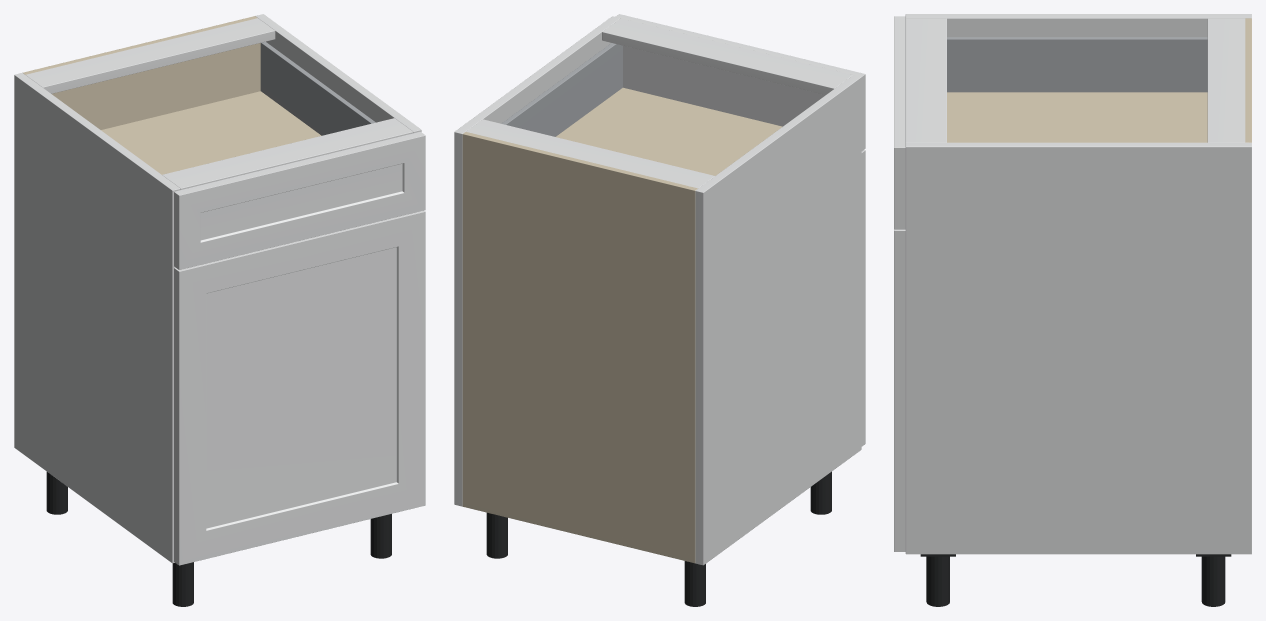
File: PLY-WSS-B21.glb
The picture shows the model from 3 angles, left to right: view 1: azimuth 30°, elevation 25°; view 2: azimuth 150°, elevation 25°; view 3: azimuth 270°, elevation 25°; orthographic projection. The views are drawn at different scales.
Visible parts, largest first — view 1: Shaker door, Carcass left, Drawer front, Drawer bottom, Drawer back, Top support rail, Top support rail.001, Metal drawer side.001, Carcass right, Adjustable foot.001, Adjustable foot.003, Carcass back (+1 smaller); view 2: Carcass back, Carcass left, Drawer bottom, Drawer front, Carcass right, Top support rail.001, Metal drawer side.001, Top support rail, Shaker door, Adjustable foot, Adjustable foot.002, Adjustable foot.001 (+1 smaller); view 3: Carcass right, Metal drawer side, Drawer bottom, Carcass left, Top support rail.001, Top support rail, Shaker door, Drawer front, Adjustable foot.002, Adjustable foot.003, Carcass back.
Part boxes in pixels (x1,y1,x2,y2): Shaker door: (174, 210, 425, 565); Carcass left: (14, 73, 180, 563); Drawer front: (174, 131, 425, 269); Drawer bottom: (101, 91, 321, 174); Drawer back: (52, 43, 260, 129); Top support rail: (26, 18, 275, 93); Top support rail.001: (162, 118, 413, 189); Metal drawer side.001: (260, 41, 375, 135); Carcass right: (255, 14, 421, 133); Adjustable foot.001: (172, 562, 193, 606); Adjustable foot.003: (370, 514, 391, 558); Carcass back: (23, 16, 257, 74); Carcass back: (462, 132, 697, 562); Carcass left: (695, 75, 861, 565); Drawer bottom: (556, 87, 782, 175); Drawer front: (615, 14, 865, 150); Carcass right: (454, 16, 620, 506); Top support rail.001: (602, 18, 852, 94); Metal drawer side.001: (501, 43, 622, 136); Top support rail: (466, 119, 714, 188); Shaker door: (861, 150, 865, 446); Adjustable foot: (684, 561, 705, 606); Adjustable foot.002: (486, 512, 507, 558); Adjustable foot.001: (810, 471, 831, 514); Carcass right: (905, 142, 1251, 554); Metal drawer side: (947, 37, 1207, 92); Drawer bottom: (947, 92, 1207, 142); Carcass left: (905, 14, 1251, 36); Top support rail.001: (905, 18, 946, 142); Top support rail: (1207, 18, 1245, 142); Shaker door: (894, 229, 905, 551); Drawer front: (894, 16, 905, 229); Adjustable foot.002: (1201, 556, 1225, 606); Adjustable foot.003: (926, 556, 949, 606); Carcass back: (1245, 18, 1251, 142).
Bounding box in the file's own units: 0.5334 × 0.8763 × 0.6064.
